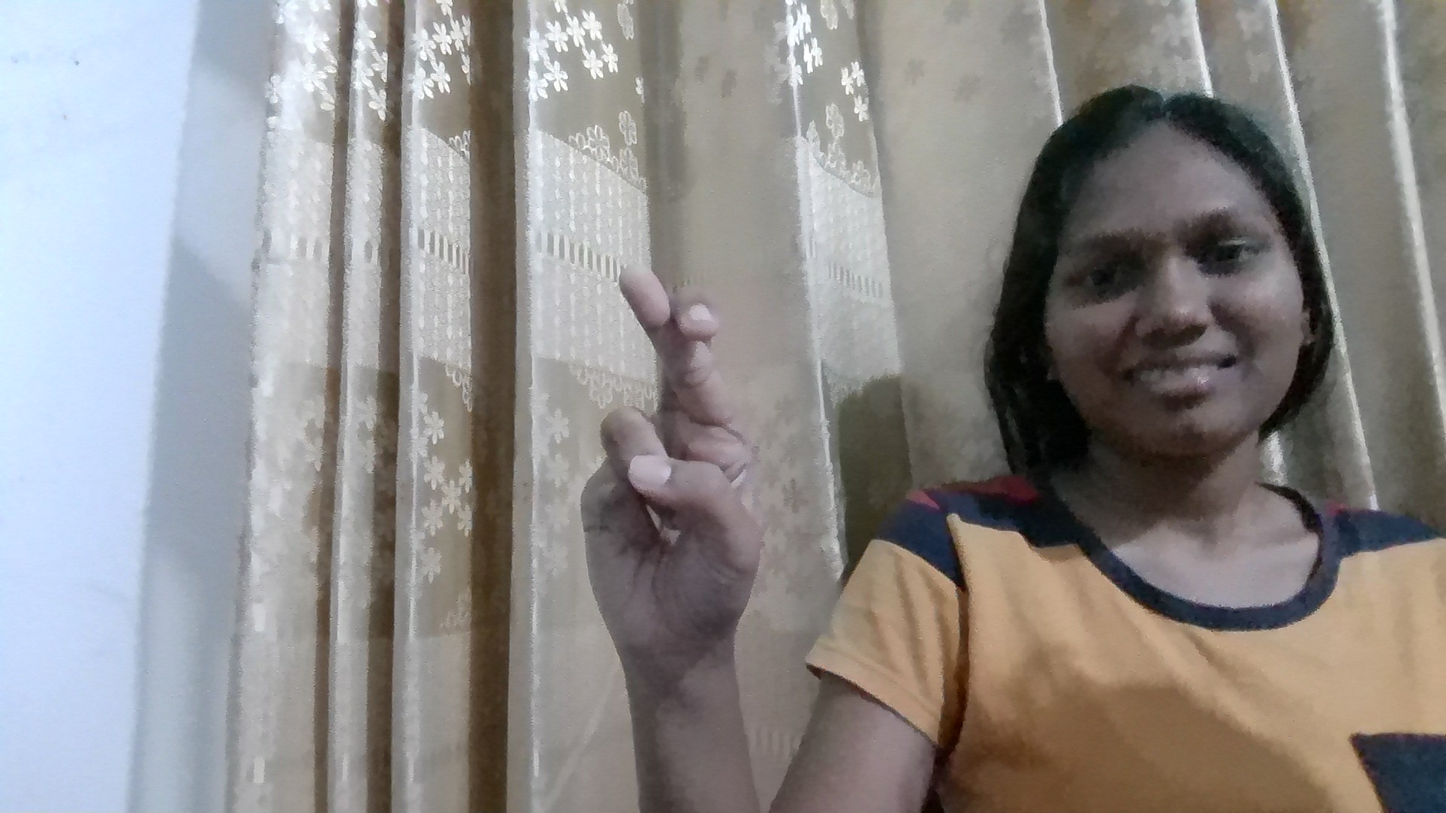Good_Luck: (510, 226, 821, 684)
